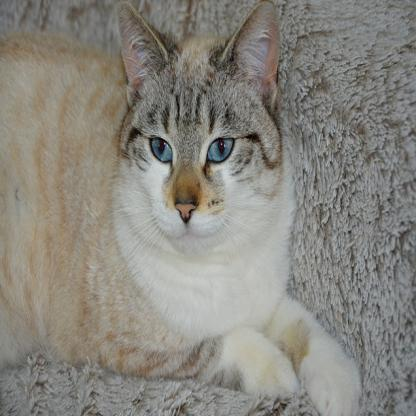cat: (1, 1, 364, 415)
